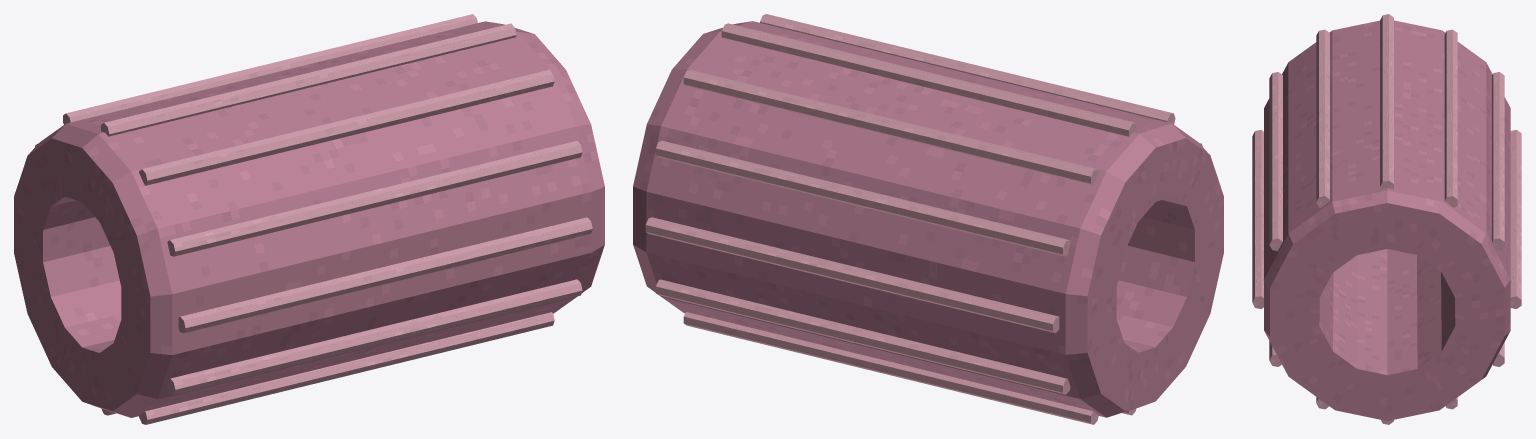
Rendered from curler_hair.glb.
3 views of the same model, side by side, from view 1: azimuth 30°, elevation 25°; view 2: azimuth 150°, elevation 25°; view 3: azimuth 270°, elevation 25° (orthographic). The views are drawn at different scales.
Visible parts, largest first — view 1: block_hollow plastic hair roller, block_roller ridge (×7); view 2: block_hollow plastic hair roller, block_roller ridge (×7); view 3: block_hollow plastic hair roller, block_roller ridge (×7).
Boxes of the visible parts, bbox=[...] form: block_hollow plastic hair roller: bbox=[14, 21, 604, 417]; block_roller ridge (×7): bbox=[63, 14, 592, 424]; block_hollow plastic hair roller: bbox=[633, 21, 1223, 417]; block_roller ridge (×7): bbox=[645, 14, 1175, 424]; block_hollow plastic hair roller: bbox=[1264, 20, 1510, 420]; block_roller ridge (×7): bbox=[1252, 14, 1521, 308].
Bounding box in the file's own units: 0.0558 × 0.0344 × 0.0343.
Materials: 1 (1 with a texture image).
